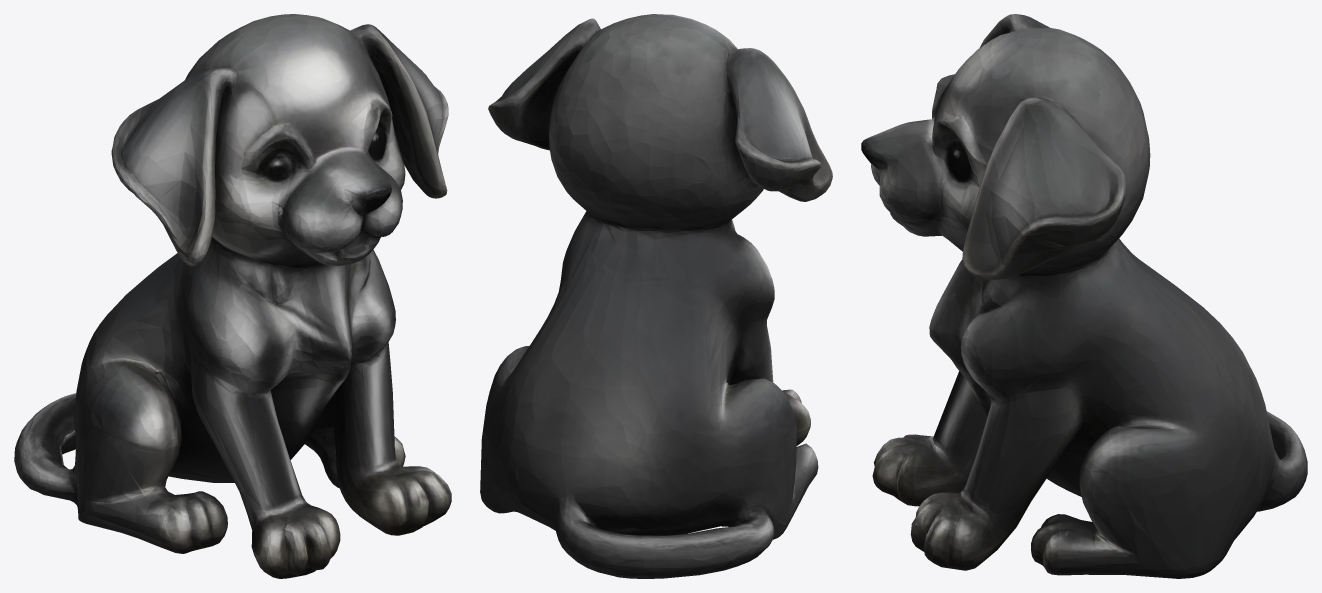
The model's file is puppy.glb.
3 views of the same model, side by side, from view 1: azimuth 30°, elevation 25°; view 2: azimuth 150°, elevation 25°; view 3: azimuth 270°, elevation 25° (orthographic). The views are drawn at different scales.
Parts seen in each view (by area): view 1: world; view 2: world; view 3: world.
Part boxes in pixels (<box>): world: <box>14,14,451,578</box>; world: <box>480,14,832,578</box>; world: <box>861,14,1307,578</box>.
Size of the model in its own units: 0.7391 by 0.9995 by 0.831.
Materials: 1 (1 with a texture image).
